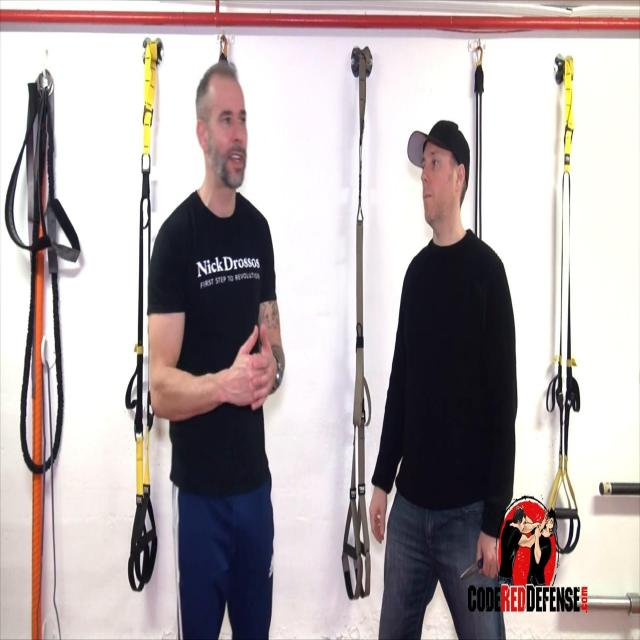scissor: (461, 558, 484, 580)
